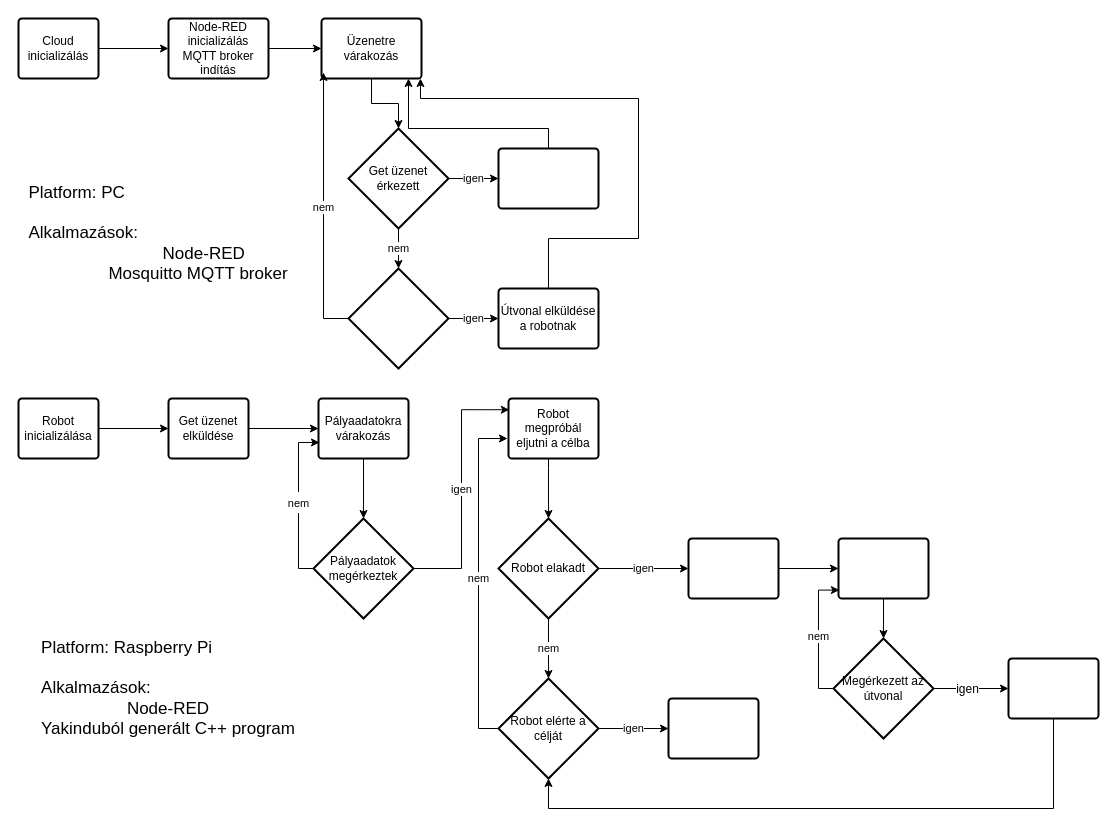
The diagram is 1116 pixels wide and 834 high, and some of its shapes have lost their labels. The shapes that lost their labels are listed below. From the top down, each one's box as (x1, y1, x2, y2) in pixels, then its label:
(497, 147, 599, 209): Pályaadatok elküldése a robotnak
(347, 267, 449, 369): Help üzenet érkezett
(687, 537, 779, 599): Help üzenet küldése
(837, 537, 929, 599): Az útvonalra várakozás a cloudtól
(1007, 657, 1099, 719): Útvonal bejárása
(667, 697, 759, 759): A robot terminálja a működését
